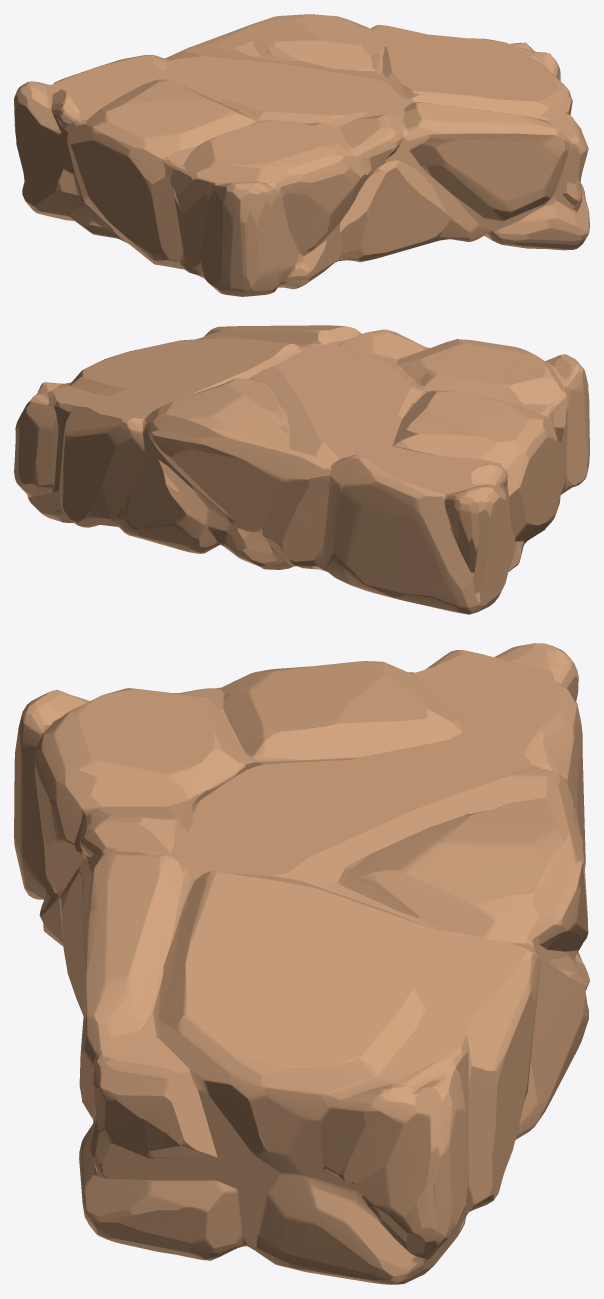
3 renders of one model, top to bottom at view 1: azimuth 30°, elevation 25°; view 2: azimuth 150°, elevation 25°; view 3: azimuth 270°, elevation 25°, orthographic. The views are drawn at different scales.
Visible parts, largest first — view 1: Mesh_16_LOD0; view 2: Mesh_16_LOD0; view 3: Mesh_16_LOD0.
Boxes of the visible parts, x1=… form: Mesh_16_LOD0: x1=14, y1=14, x2=589, y2=296; Mesh_16_LOD0: x1=14, y1=325, x2=589, y2=614; Mesh_16_LOD0: x1=14, y1=643, x2=589, y2=1284.
Size of what is drawn, in the model's own units: 3349 by 1119 by 2058.
